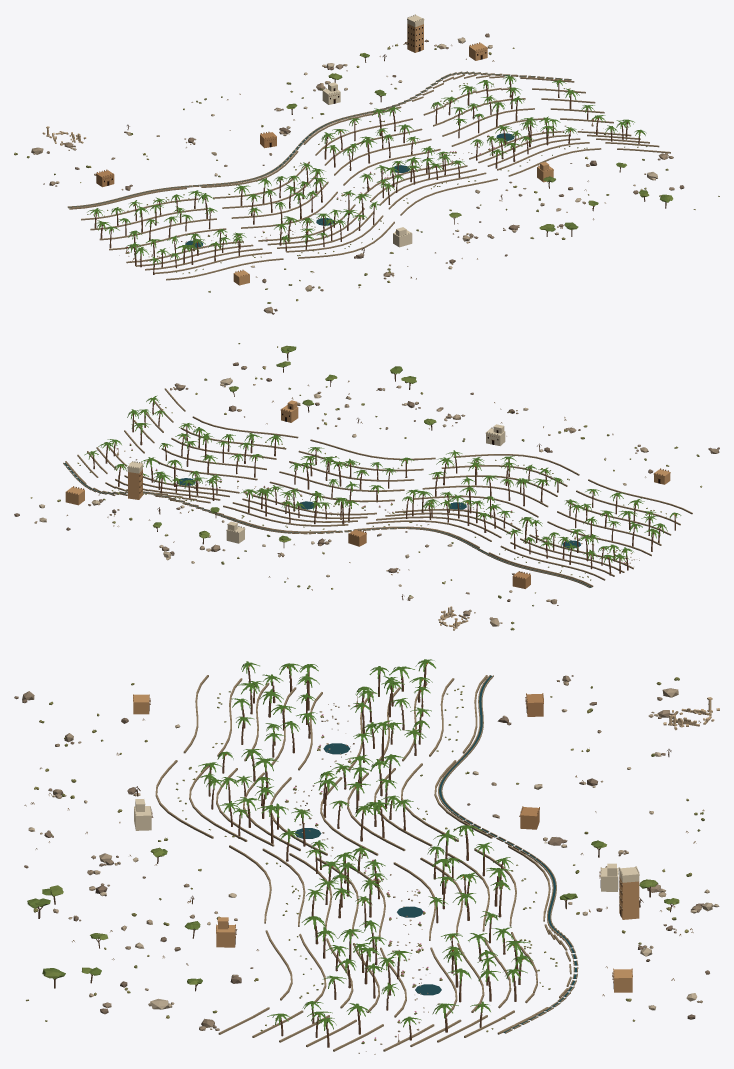
Rendered from town.glb.
3 renders of one model, top to bottom at view 1: azimuth 30°, elevation 25°; view 2: azimuth 150°, elevation 25°; view 3: azimuth 270°, elevation 25°, orthographic. The views are drawn at different scales.
Parts seen in each view (by area): view 1: Town; view 2: Town; view 3: Town.
Boxes of the visible parts, x1,y1,x2,y2 form: Town: [14, 14, 719, 314]; Town: [14, 343, 719, 630]; Town: [14, 659, 719, 1054].
Size of the model in its own units: 254 by 35.3 by 210.
